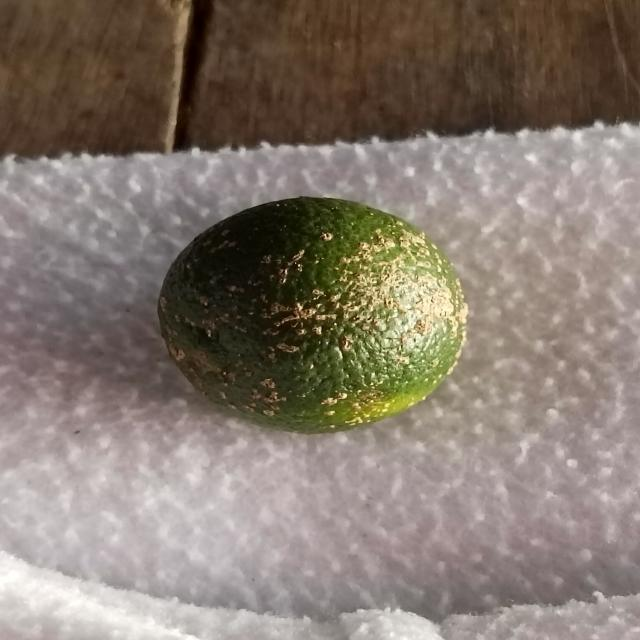scab: (154, 196, 472, 434)
